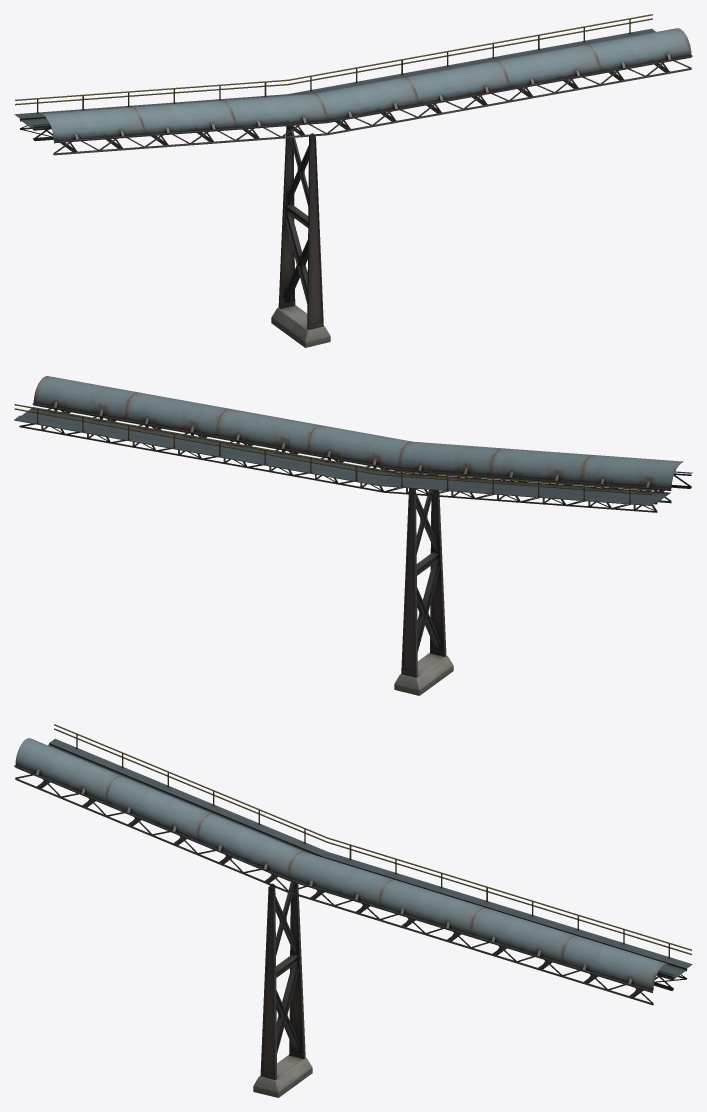
3 renders of one model, top to bottom at view 1: azimuth 30°, elevation 25°; view 2: azimuth 150°, elevation 25°; view 3: azimuth 330°, elevation 25°, orthographic.
Parts seen in each view (by area): view 1: body0_model0_lod0_mesh0, body0_model0_lod0_mesh1; view 2: body0_model0_lod0_mesh0, body0_model0_lod0_mesh1; view 3: body0_model0_lod0_mesh0, body0_model0_lod0_mesh1.
Part boxes in pixels (bbox=[...]): body0_model0_lod0_mesh0: bbox=[14, 14, 692, 155]; body0_model0_lod0_mesh1: bbox=[271, 126, 330, 347]; body0_model0_lod0_mesh0: bbox=[14, 376, 692, 512]; body0_model0_lod0_mesh1: bbox=[394, 475, 453, 695]; body0_model0_lod0_mesh0: bbox=[14, 724, 692, 1005]; body0_model0_lod0_mesh1: bbox=[253, 882, 312, 1097].
Size of the model in its own units: 1792 by 752 by 227.
2 materials, 2 textured.
